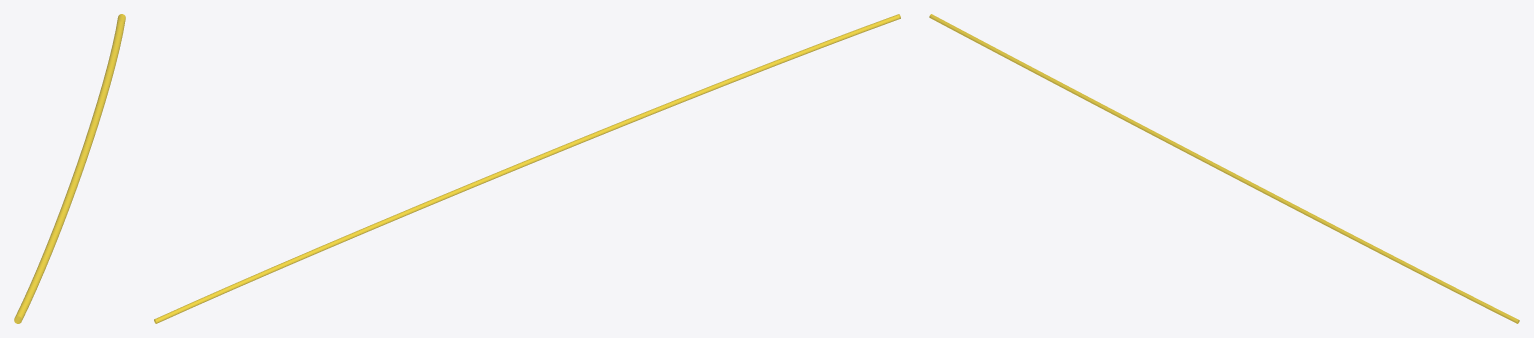
File: Event_40932208_track_9.fbx
The picture shows the model from 3 angles, left to right: view 1: azimuth 90°, elevation 25°; view 2: azimuth 210°, elevation 25°; view 3: azimuth 330°, elevation 25°; orthographic projection. The views are drawn at different scales.
Visible parts, largest first — view 1: Model; view 2: Model; view 3: Model.
Part boxes in pixels (<box>): Model: <box>14,14,125,323</box>; Model: <box>154,14,900,323</box>; Model: <box>929,14,1519,323</box>.
Bounding box in the file's own units: 6.52 × 1.4 × 0.5608.
